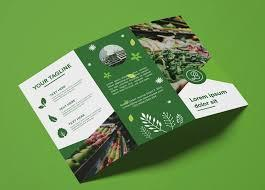paper: (18, 17, 248, 184)
